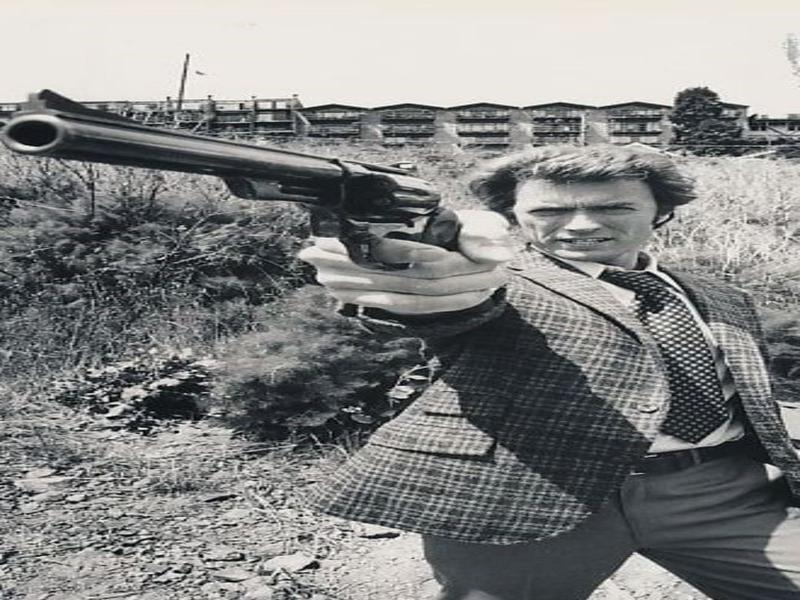Revolver: (19, 68, 503, 294)
